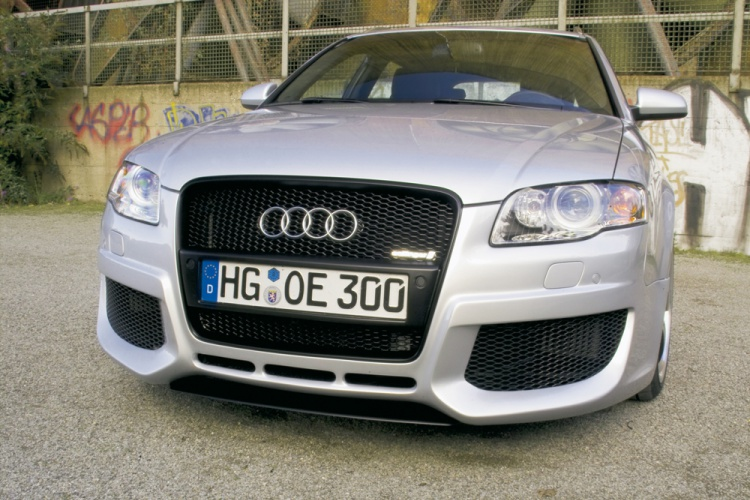audi: (251, 200, 366, 249)
